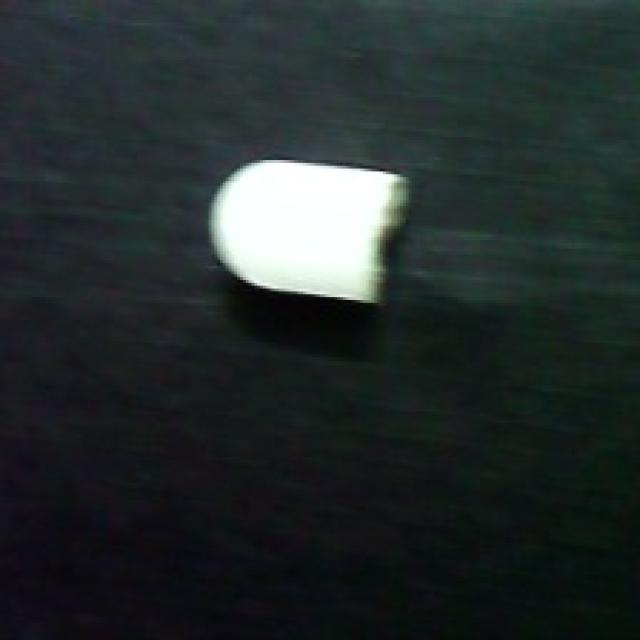defected: (201, 149, 421, 316)
